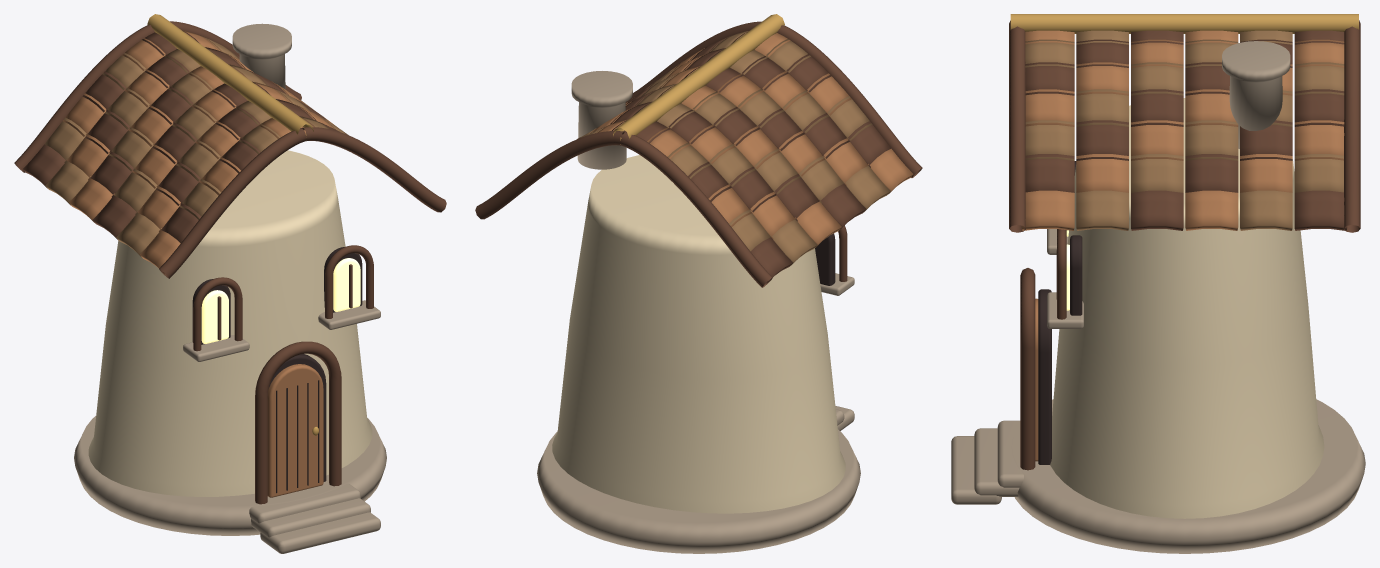
The model's file is windmill_crafted.glb.
3 views of the same model, side by side, from view 1: azimuth 30°, elevation 25°; view 2: azimuth 150°, elevation 25°; view 3: azimuth 270°, elevation 25° (orthographic). The views are drawn at different scales.
Parts seen in each view (by area): view 1: Lime plaster / warm ivory, Oiled chestnut joinery, Rounded limestone footing, Honey oak door boards, Polished worn timber edge, Antique brass, Deep joinery recess, Warm window glass; view 2: Lime plaster / warm ivory, Oiled chestnut joinery, Rounded limestone footing, Polished worn timber edge, Honey oak door boards, Antique brass, Deep joinery recess; view 3: Lime plaster / warm ivory, Oiled chestnut joinery, Rounded limestone footing, Honey oak door boards, Polished worn timber edge, Antique brass, Deep joinery recess.
Part boxes in pixels (left/top/right/bottom): Lime plaster / warm ivory: left=88, top=150, right=372, bottom=496; Oiled chestnut joinery: left=14, top=21, right=446, bottom=504; Rounded limestone footing: left=74, top=23, right=386, bottom=553; Honey oak door boards: left=63, top=30, right=337, bottom=497; Polished worn timber edge: left=45, top=35, right=347, bottom=257; Antique brass: left=147, top=14, right=318, bottom=435; Deep joinery recess: left=192, top=247, right=362, bottom=493; Warm window glass: left=201, top=258, right=360, bottom=343; Lime plaster / warm ivory: left=552, top=155, right=845, bottom=513; Oiled chestnut joinery: left=475, top=21, right=922, bottom=287; Rounded limestone footing: left=537, top=71, right=860, bottom=553; Polished worn timber edge: left=578, top=31, right=890, bottom=265; Honey oak door boards: left=590, top=31, right=913, bottom=247; Antique brass: left=613, top=14, right=784, bottom=144; Deep joinery recess: left=815, top=233, right=835, bottom=285; Lime plaster / warm ivory: left=1050, top=98, right=1324, bottom=518; Oiled chestnut joinery: left=1009, top=20, right=1360, bottom=470; Rounded limestone footing: left=951, top=41, right=1365, bottom=553; Honey oak door boards: left=1021, top=30, right=1344, bottom=461; Polished worn timber edge: left=1025, top=30, right=1344, bottom=230; Antique brass: left=1010, top=14, right=1358, bottom=33; Deep joinery recess: left=1038, top=161, right=1082, bottom=464.
Size of the model in its own units: 2.77 by 3.75 by 3.02.
